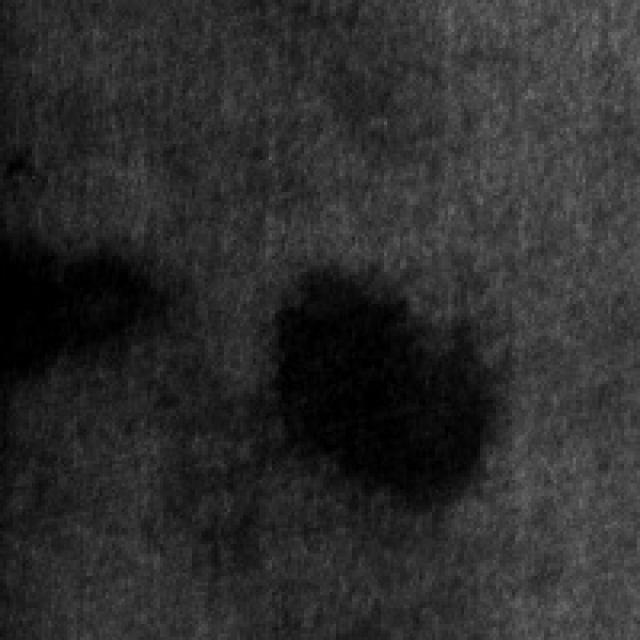patches: (259, 262, 493, 509), (0, 214, 160, 390)
